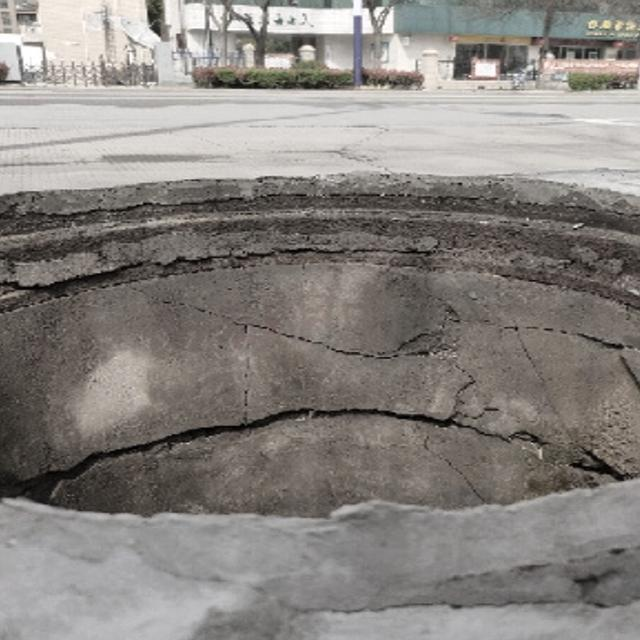lose: (0, 146, 640, 581)
